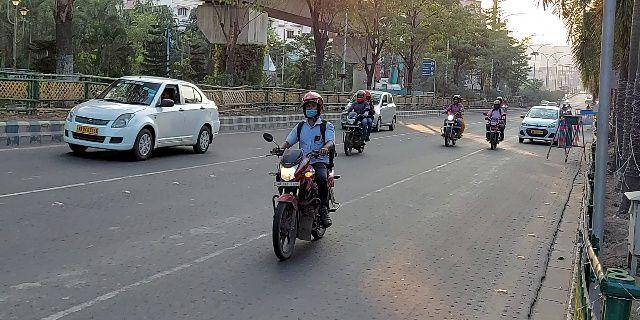Car: (60, 75, 221, 164), (516, 102, 559, 148), (367, 87, 400, 136)
Motorbike: (261, 92, 341, 264), (342, 87, 373, 159), (437, 94, 468, 151), (482, 96, 508, 151)
